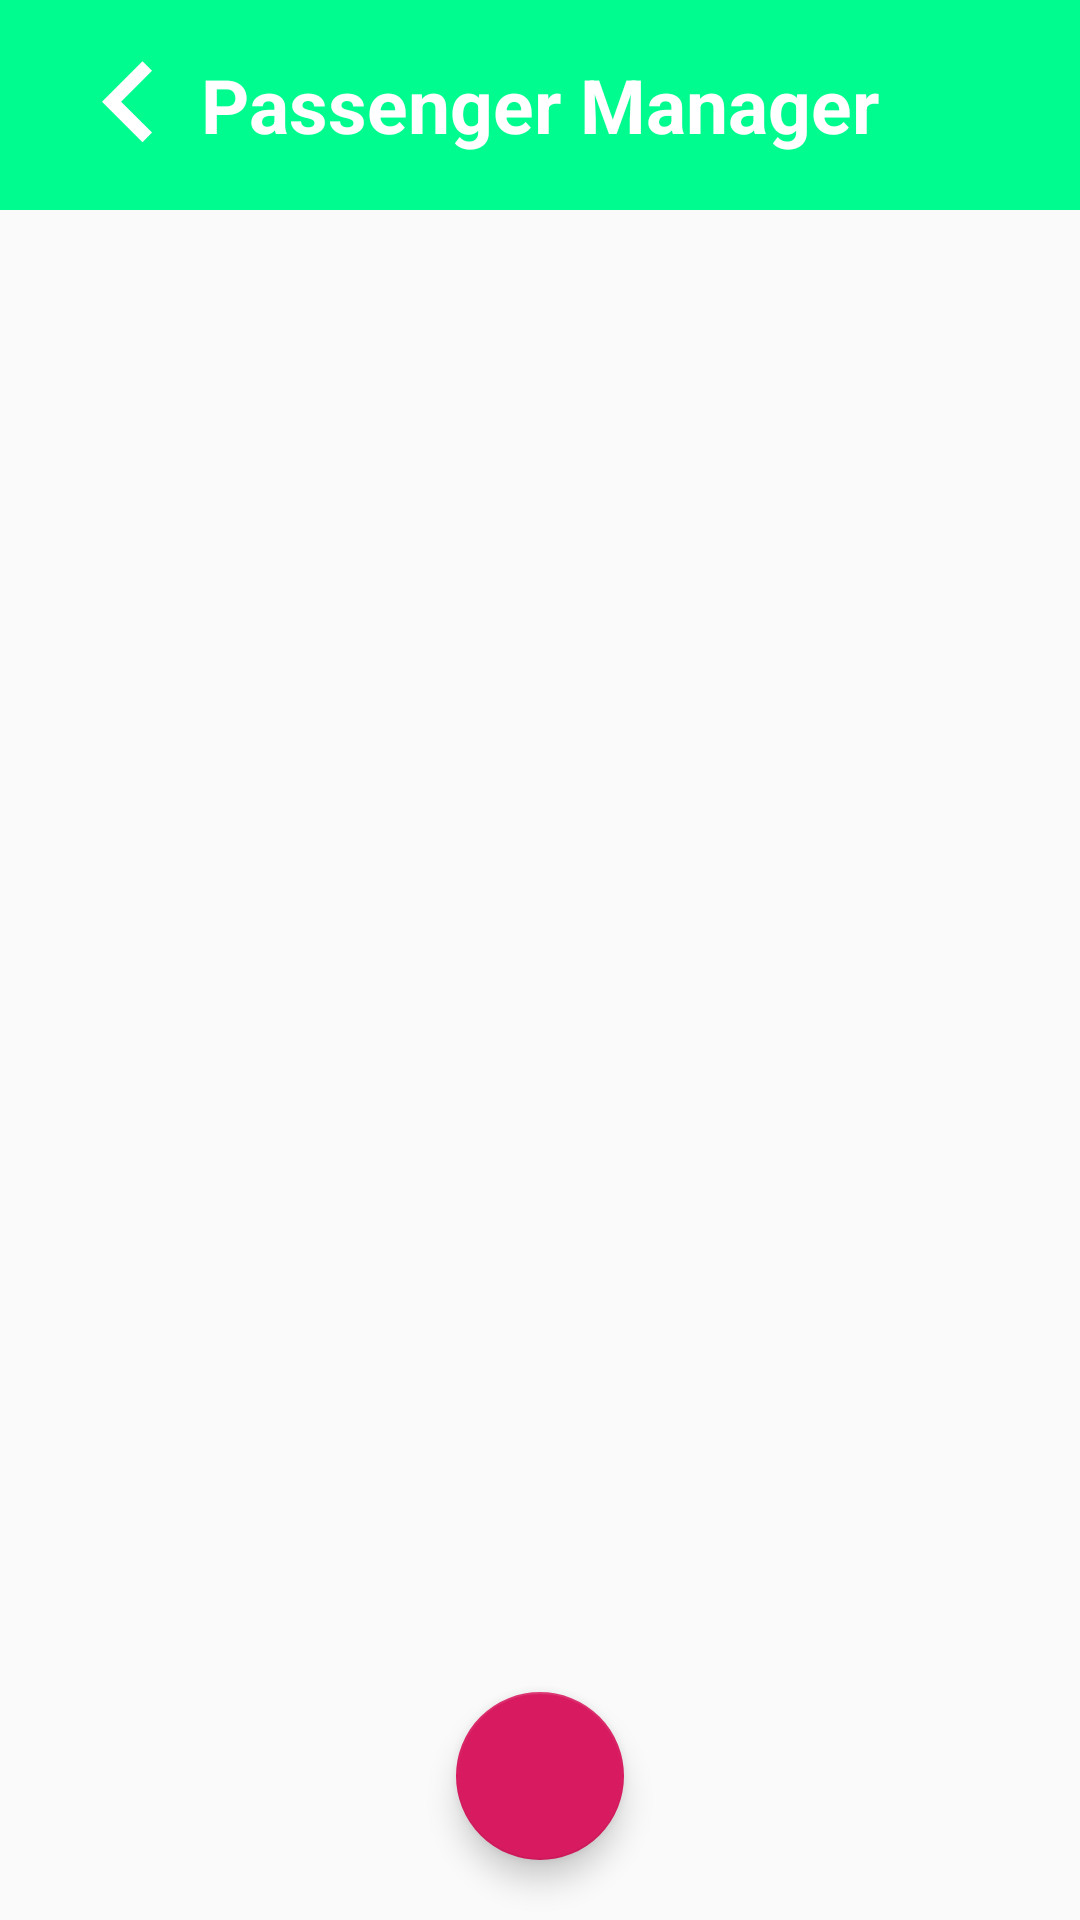

Point at icon controls on the screen. Image size 1080*1920, points as (x,y).
keyboard arrow: (127,101)
